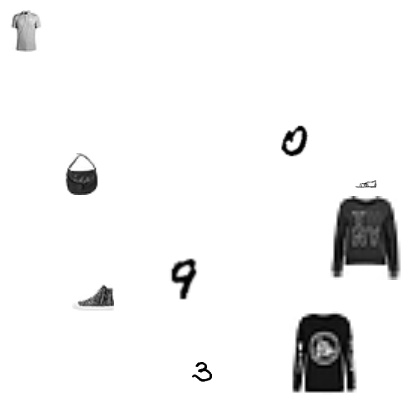0: (274, 120, 316, 162)
3: (189, 358, 217, 386)
9: (156, 247, 212, 303)
Bag: (60, 153, 102, 195)
Pullover: (281, 311, 365, 395), (322, 196, 406, 280)
Sandal: (355, 173, 377, 195)
Sneaker: (72, 276, 114, 318)
T-shirt/top: (5, 10, 47, 52)
